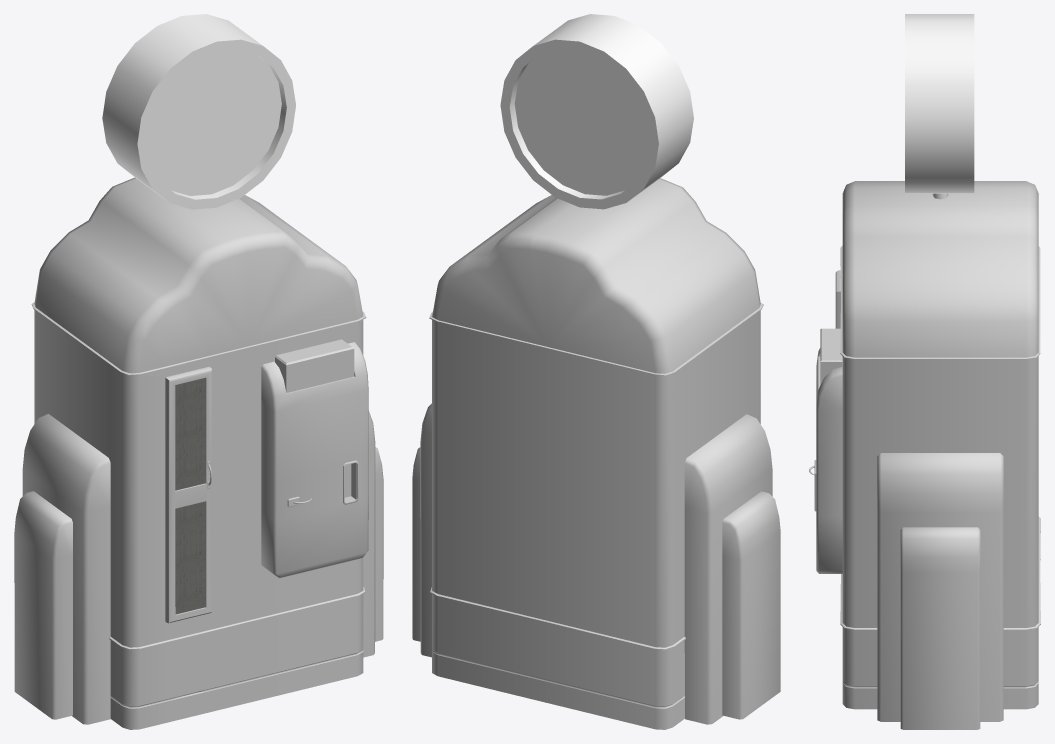
Rendered from zombie_vending_three_gun_on_lod0.glb.
3 views of the same model, side by side, from view 1: azimuth 30°, elevation 25°; view 2: azimuth 150°, elevation 25°; view 3: azimuth 270°, elevation 25° (orthographic).
Visible parts, largest first — view 1: zombie_vending_three_gun_on_lod0; view 2: zombie_vending_three_gun_on_lod0; view 3: zombie_vending_three_gun_on_lod0.
Part boxes in pixels (x1,y1,x2,y2): zombie_vending_three_gun_on_lod0: (14, 14, 383, 729); zombie_vending_three_gun_on_lod0: (412, 14, 780, 729); zombie_vending_three_gun_on_lod0: (809, 14, 1040, 729).
Bounding box in the file's own units: 60.71 × 112 × 37.3.
4 materials, 1 textured.
